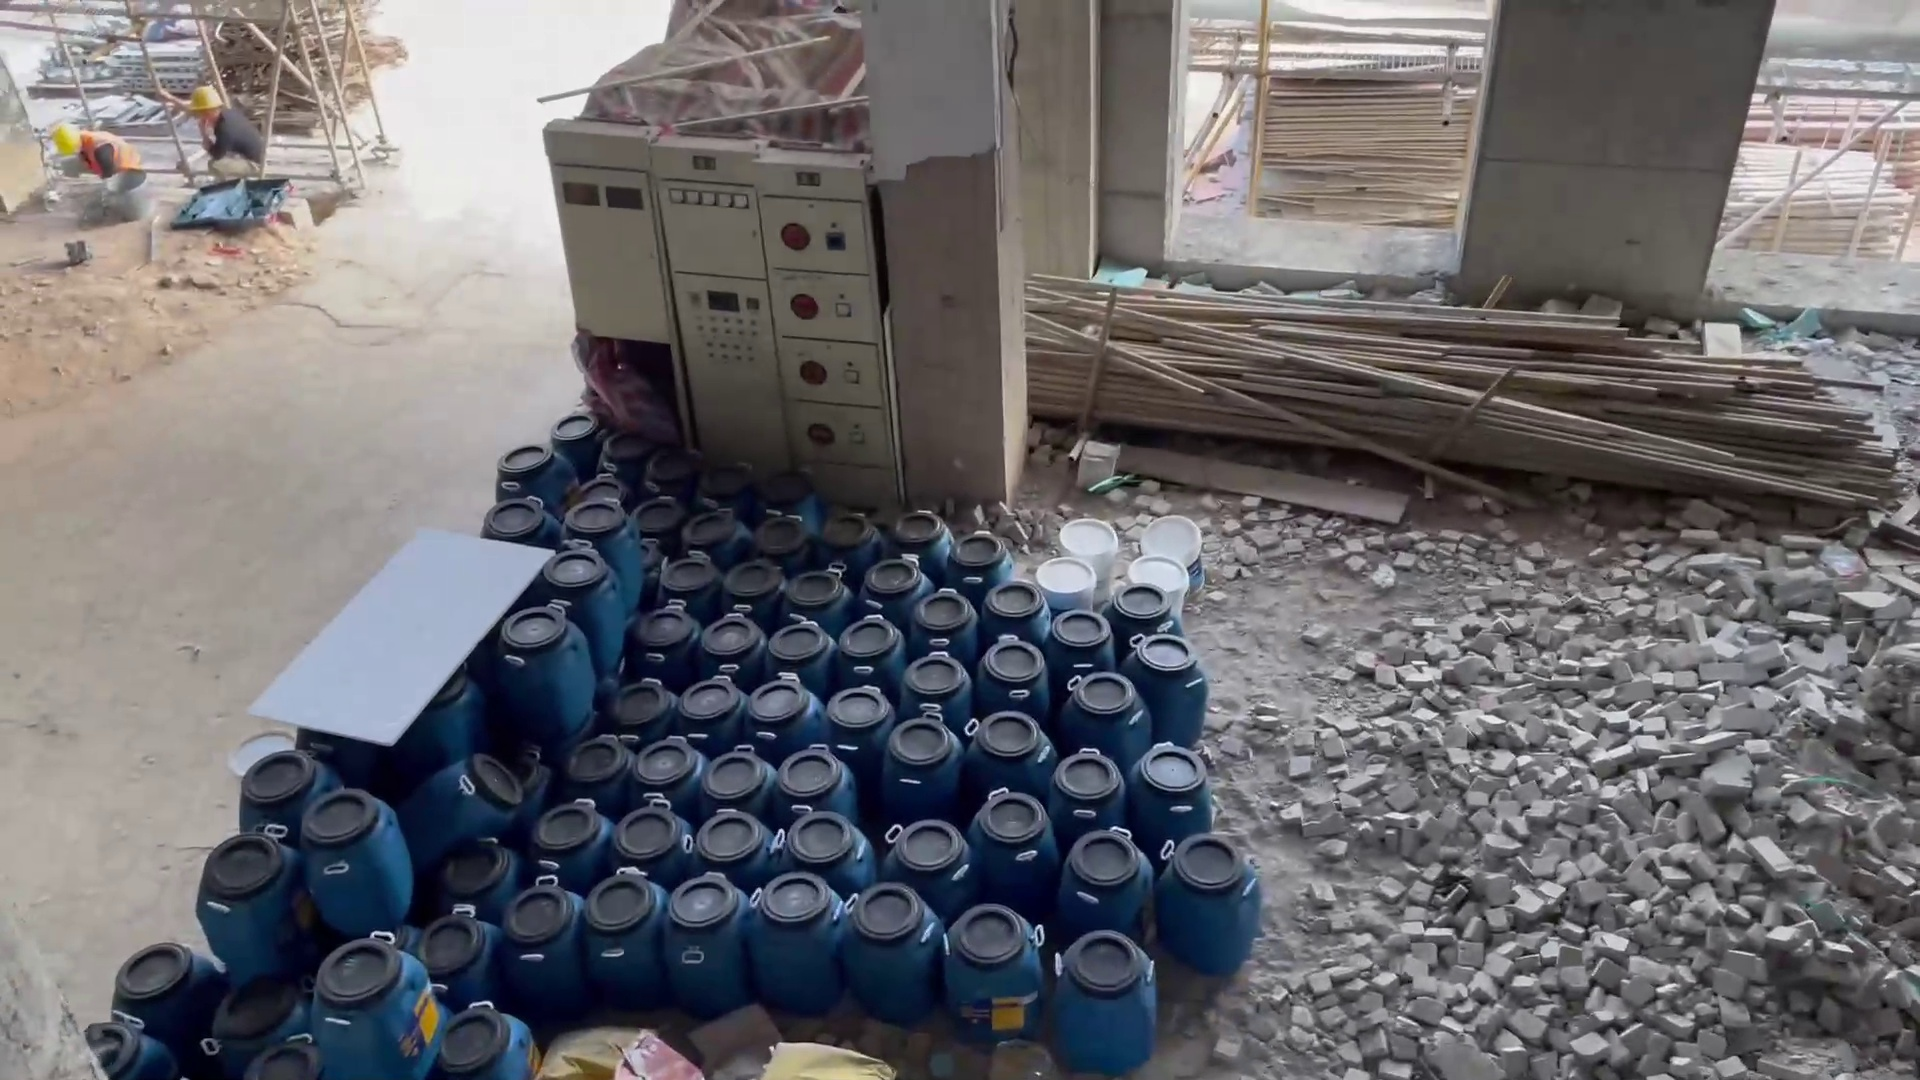board: (1251, 61, 1471, 236)
helmet: (180, 85, 222, 117), (53, 114, 80, 162)
person: (185, 86, 278, 184), (48, 108, 147, 194)
vest: (81, 127, 142, 179)
wood: (1032, 248, 1869, 514), (1737, 138, 1911, 255)
